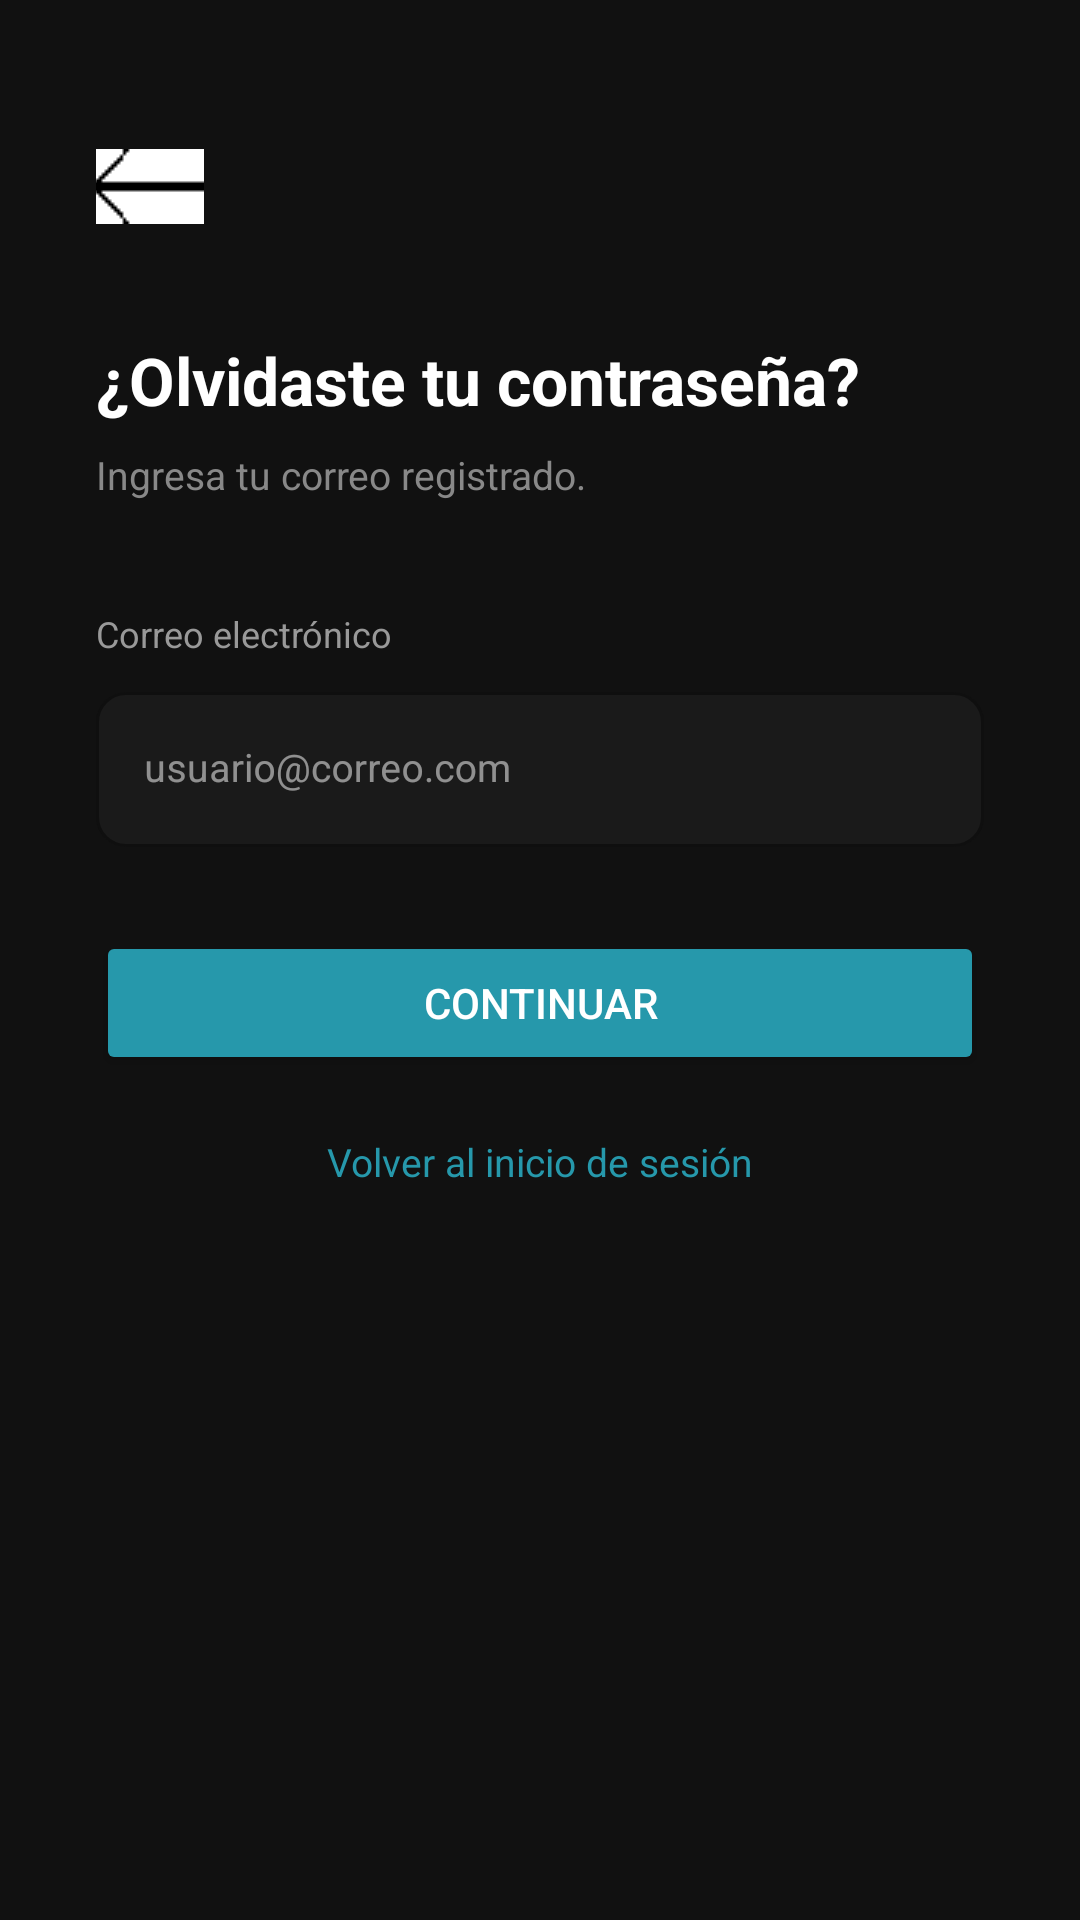

Point at icon controls on the screen. Image size 1080w x 1920h, points as (x=x, y=y).
arrow back: (x=150, y=186)
